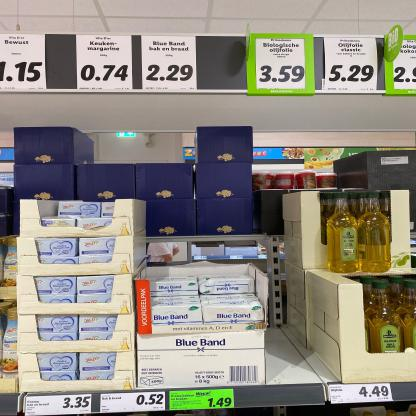prtg: (77, 36, 134, 91), (142, 37, 198, 91), (324, 38, 379, 91), (1, 34, 48, 90), (256, 39, 307, 90), (101, 393, 166, 414), (170, 390, 235, 411), (25, 395, 93, 415), (330, 384, 394, 405), (394, 41, 415, 91)
